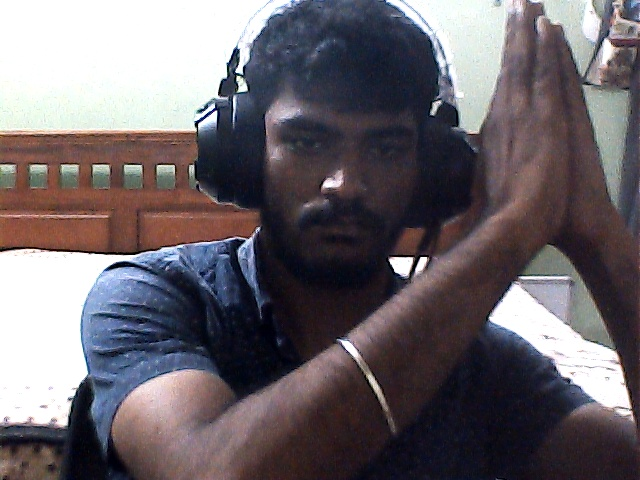Sign: (480, 0, 616, 245)
